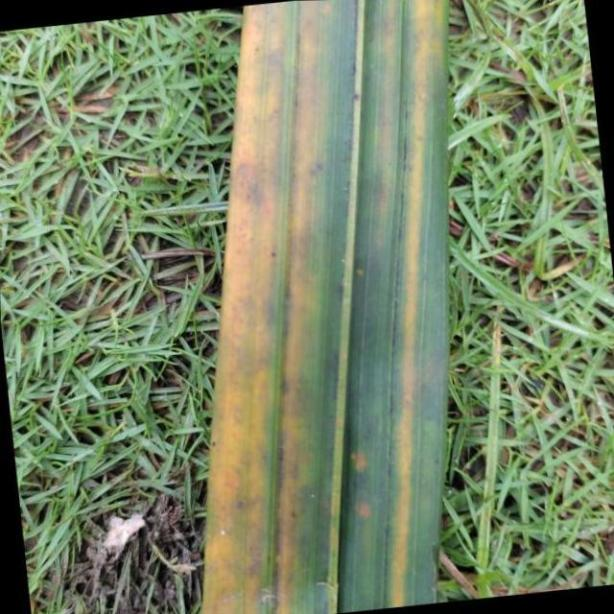Megnesium: (200, 0, 451, 614)
